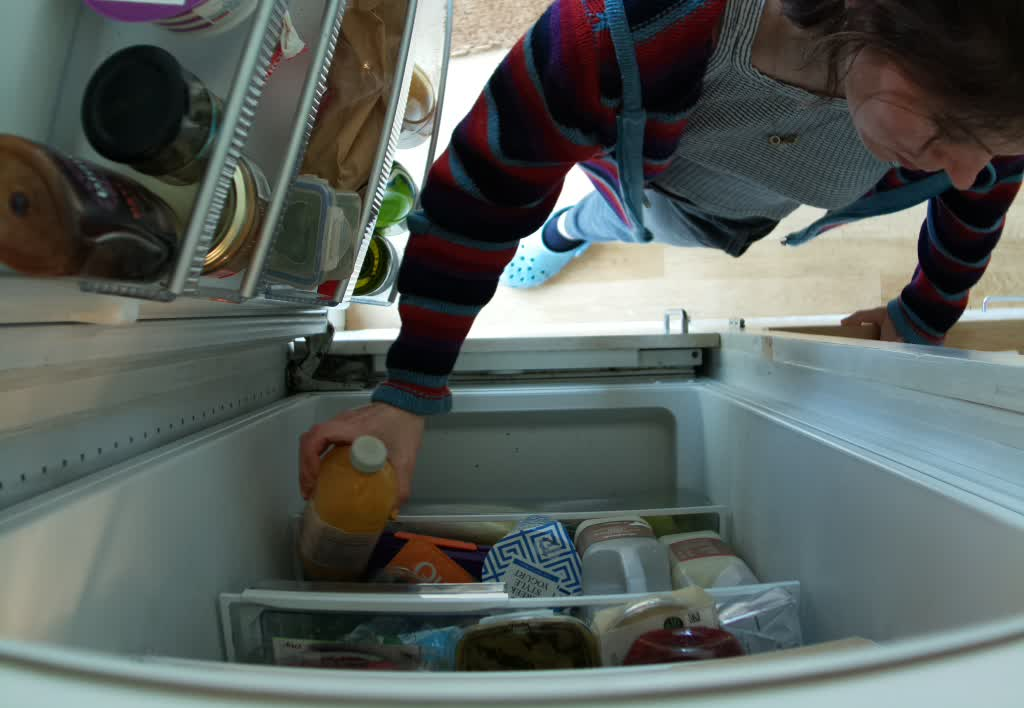juice: (289, 431, 405, 598)
